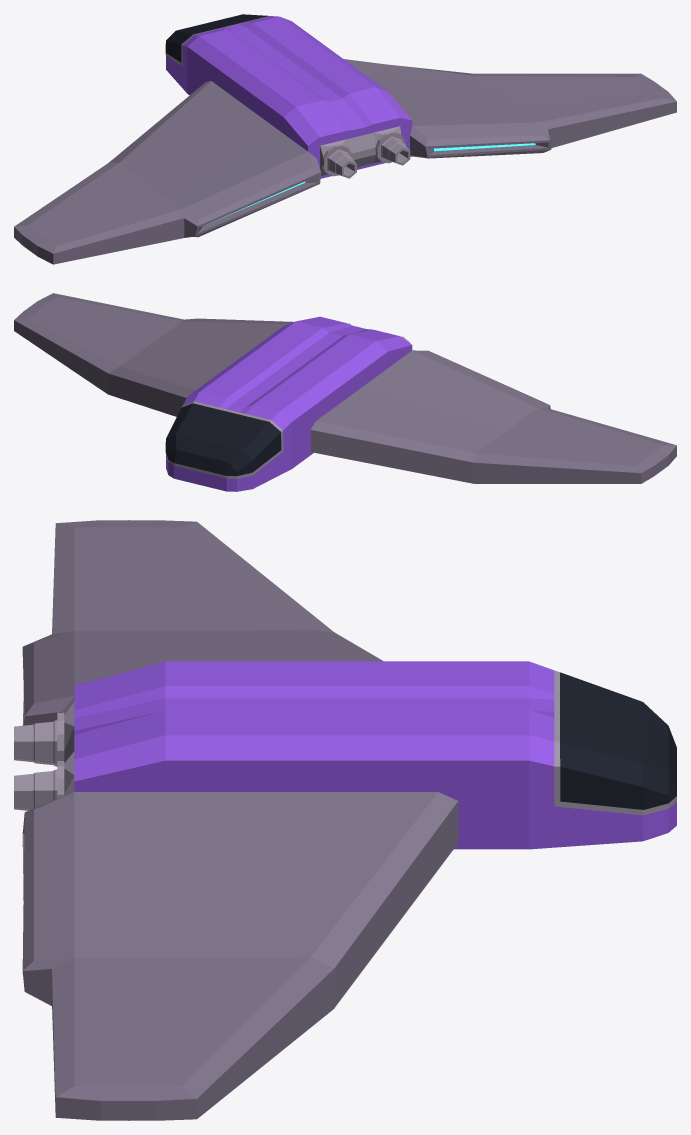
Rendered from Spaceship_1.fbx.
The picture shows the model from 3 angles, top to bottom: view 1: azimuth 30°, elevation 25°; view 2: azimuth 150°, elevation 25°; view 3: azimuth 270°, elevation 25°; orthographic projection. The views are drawn at different scales.
Visible parts, largest first — view 1: Ship Wing R, Ship Body, Thruster R; view 2: Ship Wing R, Ship Body; view 3: Ship Wing R, Ship Body, Thruster R.
Part boxes in pixels (bbox=[...]): Ship Wing R: bbox=[14, 59, 676, 264]; Ship Body: bbox=[165, 14, 412, 178]; Thruster R: bbox=[327, 136, 410, 178]; Ship Wing R: bbox=[14, 293, 676, 483]; Ship Body: bbox=[165, 316, 412, 491]; Ship Wing R: bbox=[22, 520, 458, 1120]; Ship Body: bbox=[57, 661, 676, 849]; Thruster R: bbox=[14, 720, 57, 810].
Size of the model in its own units: 2417 by 290 by 1166.
